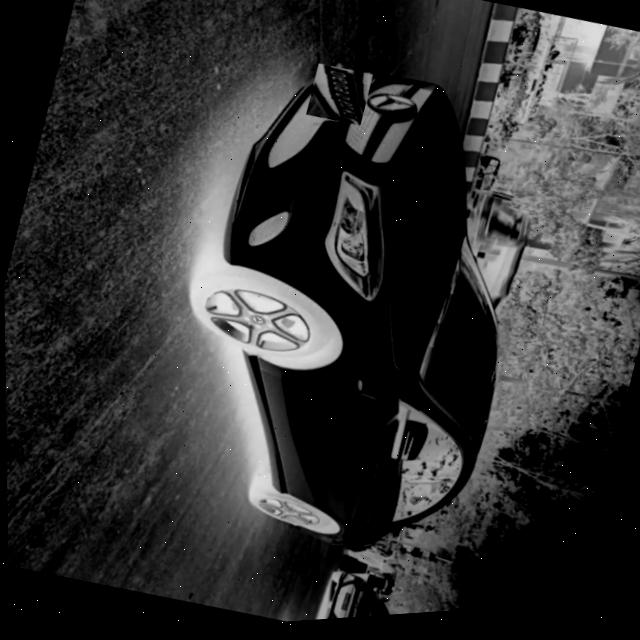Non_registered: (303, 65, 372, 133)
